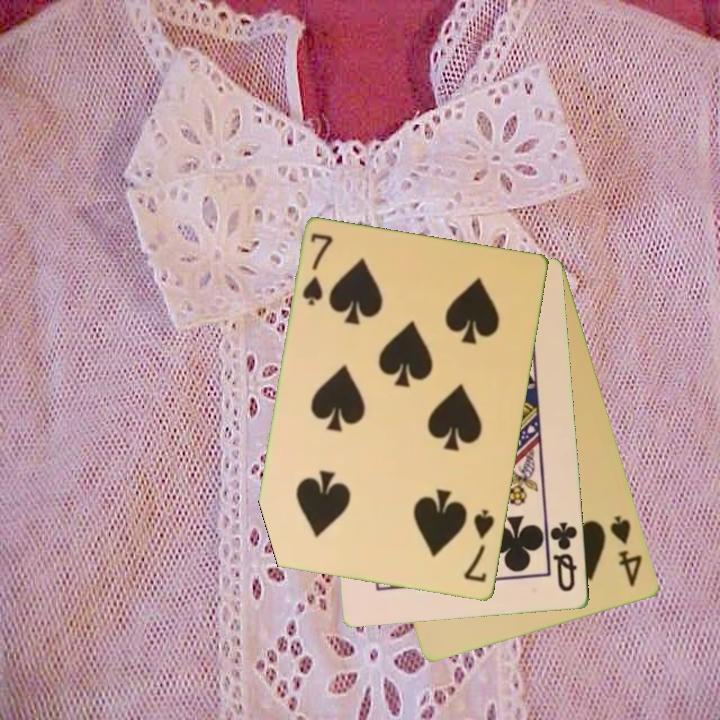4s: (607, 512, 646, 590)
7s: (460, 506, 498, 586), (299, 230, 336, 309)
Qc: (547, 519, 581, 595)
